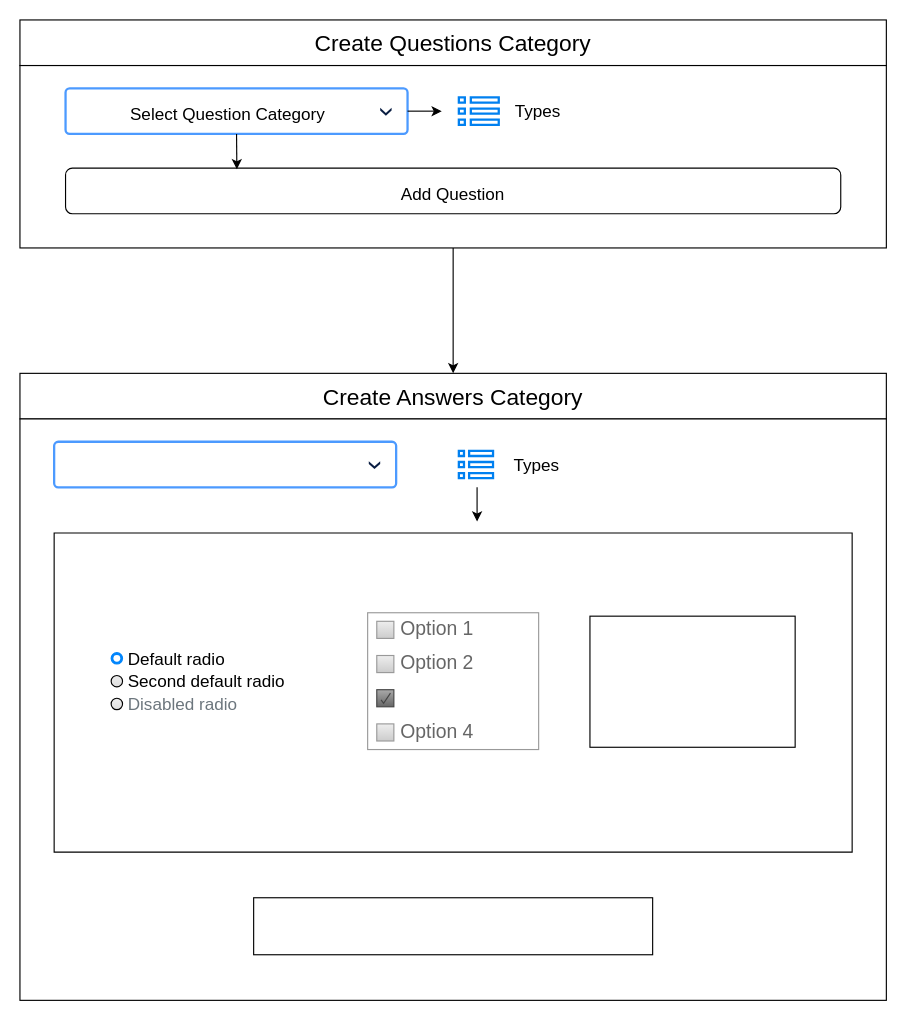
This 906x1020 diagram has some shape labels left out. Here are the shapes that lost their labels. From the top down, the box of each, then its label:
(52, 440, 397, 488): Select Answer Category
(376, 689, 394, 707): Option 3
(589, 615, 795, 747): Type your answer here
(253, 897, 653, 955): Add Options
